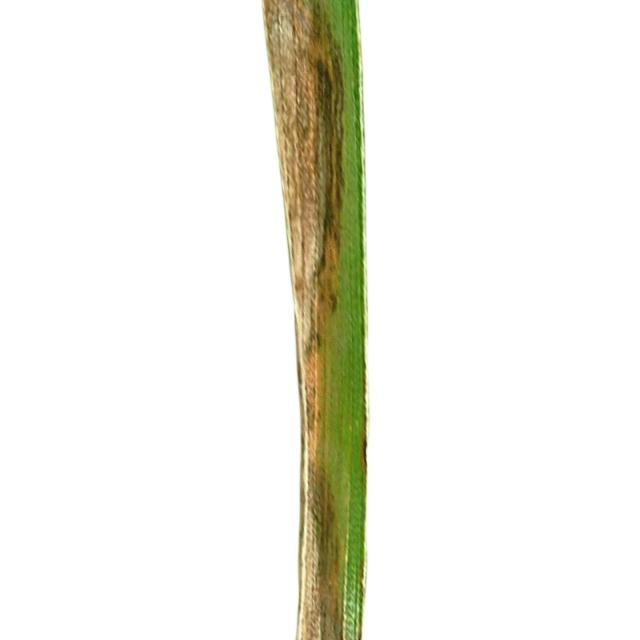Leaf scald: (176, 0, 488, 640)
